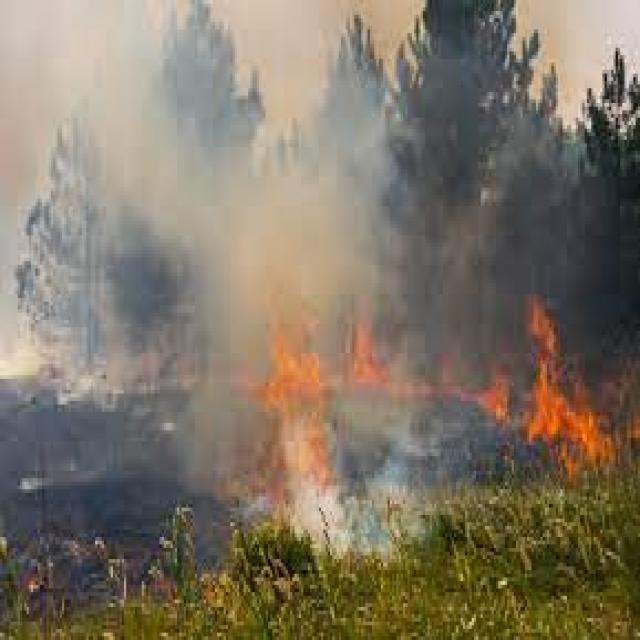Fire: (246, 283, 358, 549), (514, 287, 622, 473), (342, 312, 418, 398), (473, 350, 522, 428)
Smoke: (0, 0, 417, 568), (104, 25, 403, 355)
